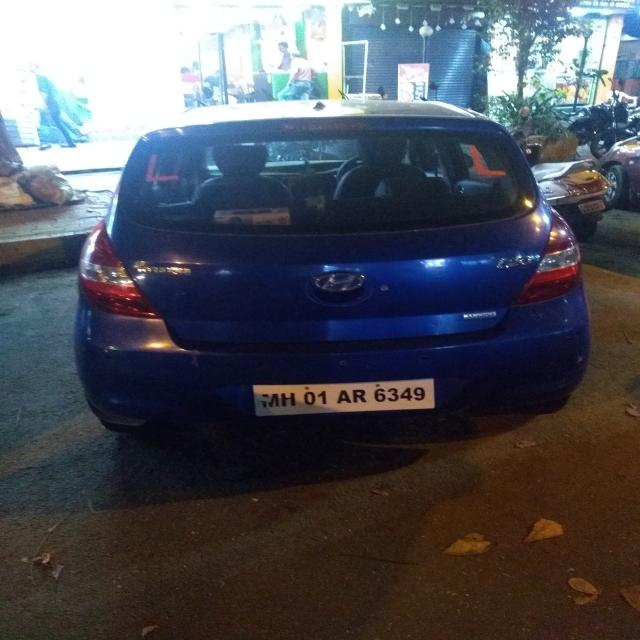Number-Plate: (260, 384, 434, 412)
